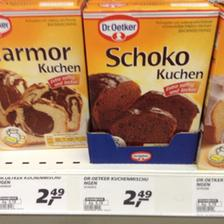Kuchen: (82, 1, 218, 166), (0, 0, 86, 152)
